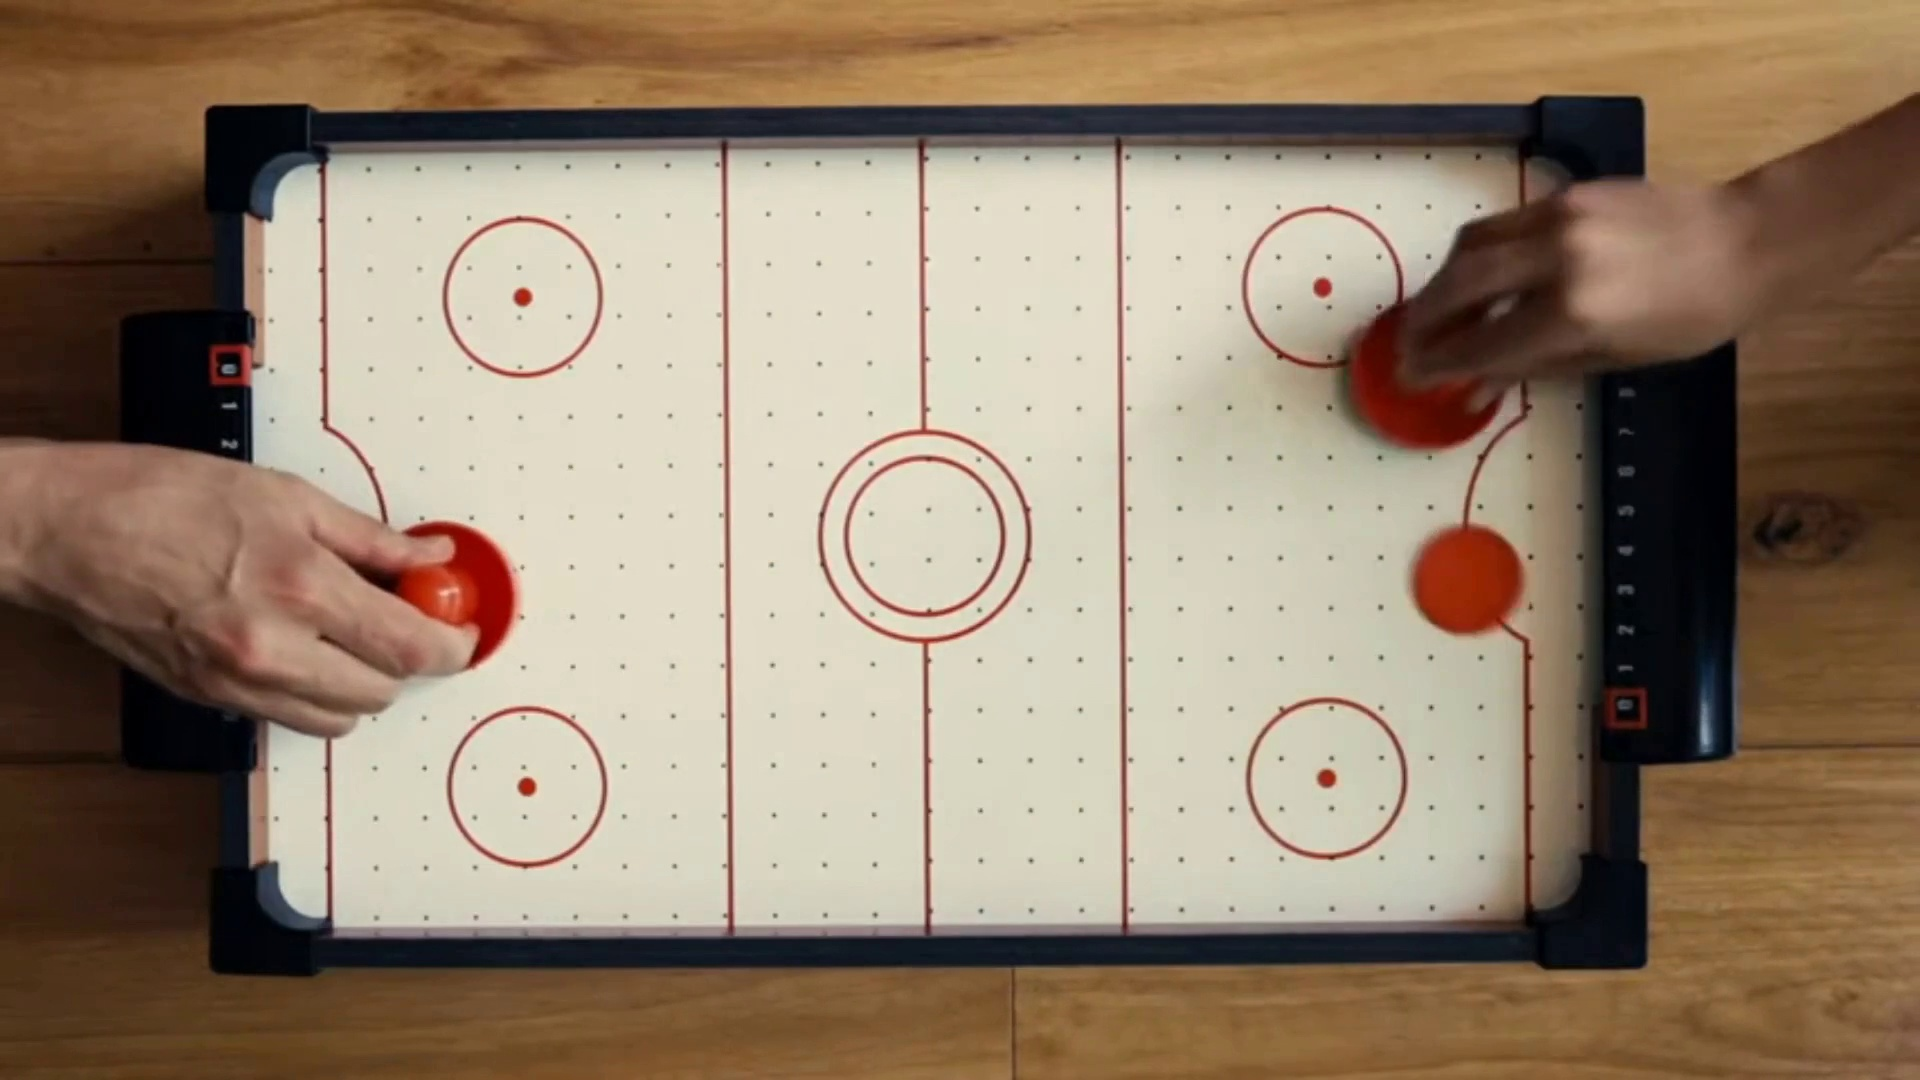player1: (361, 520, 520, 677)
player2: (1350, 304, 1491, 448)
puck: (1413, 527, 1518, 640)
table: (255, 151, 1582, 922)
